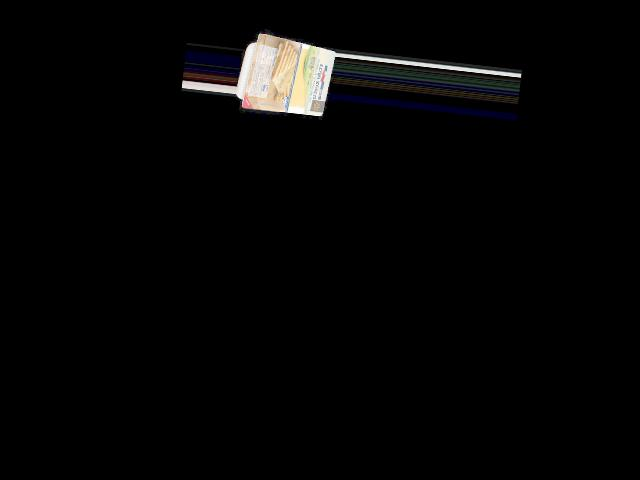cheese: (234, 33, 335, 114)
